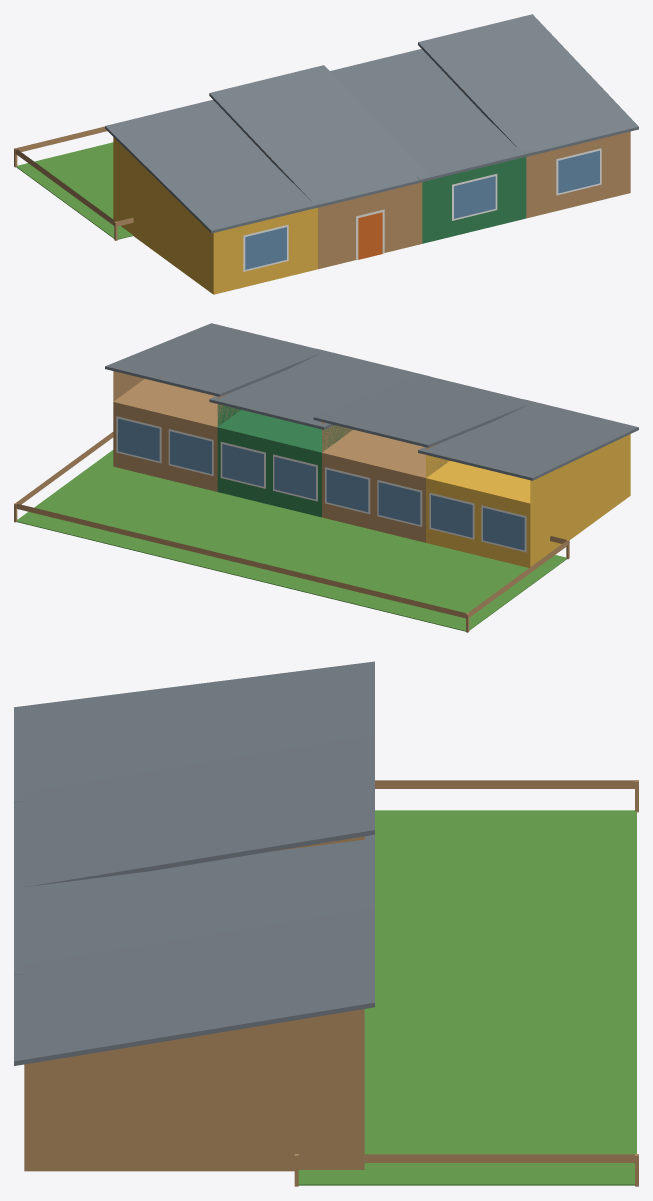
The model's file is creche.glb.
3 renders of one model, top to bottom at view 1: azimuth 30°, elevation 25°; view 2: azimuth 150°, elevation 25°; view 3: azimuth 270°, elevation 25°, orthographic. The views are drawn at different scales.
Visible parts, largest first — view 1: creche; view 2: creche; view 3: creche.
Part boxes in pixels (bbox=[...]): creche: bbox=[14, 14, 638, 294]; creche: bbox=[14, 323, 638, 632]; creche: bbox=[14, 661, 638, 1186].
Bounding box in the file's own units: 26.12 × 5.6 × 18.36.
1 material, 1 textured.
